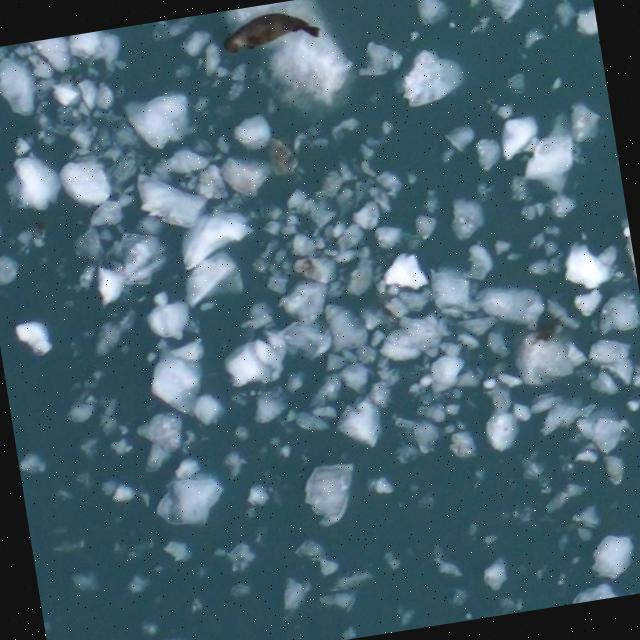seal: (220, 6, 322, 54)
